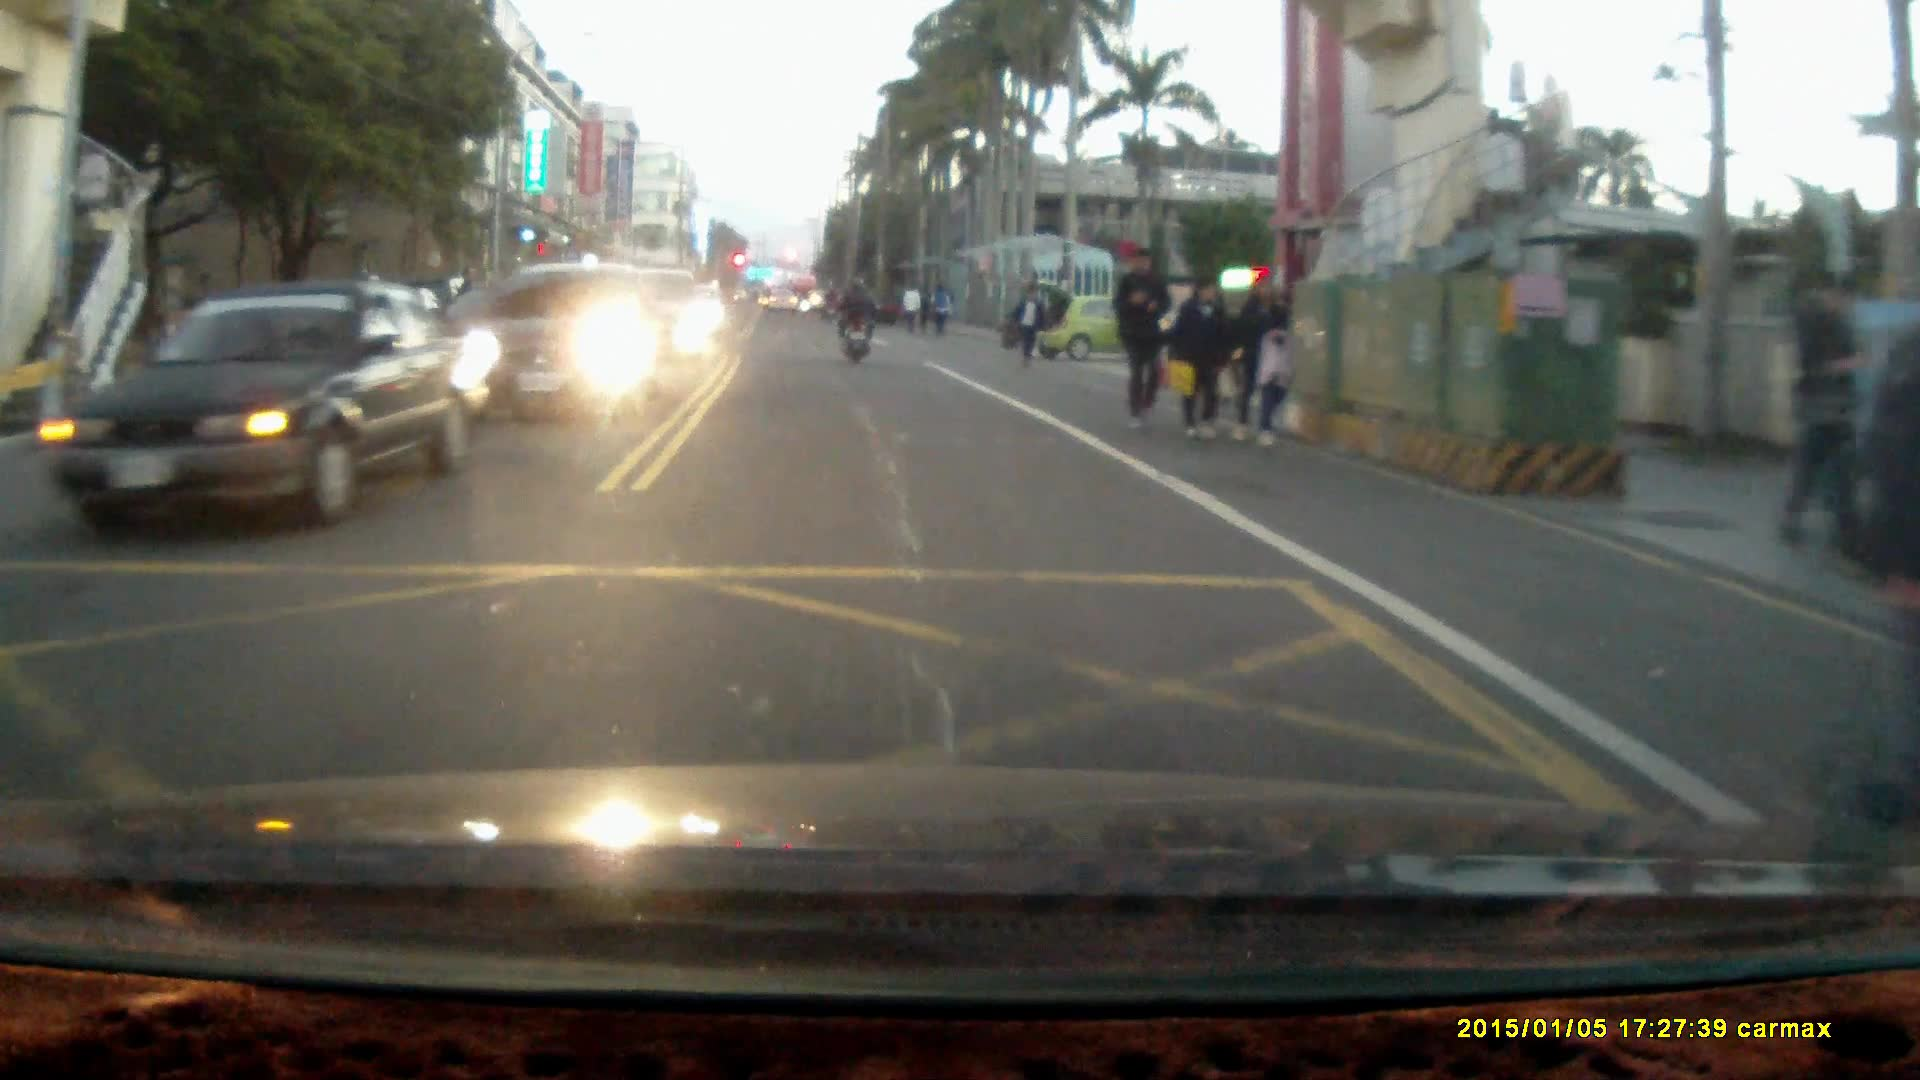pedestrian: (1781, 272, 1872, 567), (1110, 242, 1171, 432), (1174, 279, 1238, 444), (1235, 275, 1294, 451), (1011, 282, 1043, 368)
rider: (834, 273, 875, 365)
vehicle: (55, 283, 474, 539), (454, 263, 663, 422), (1027, 279, 1182, 366), (605, 268, 708, 368)
